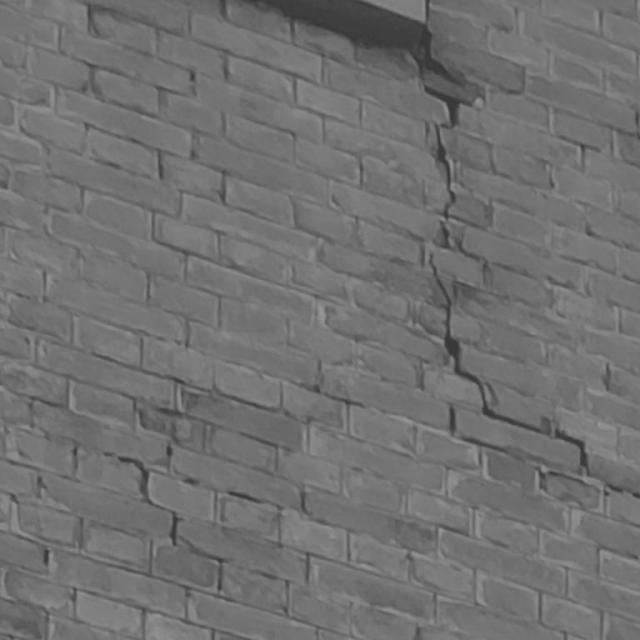crack: (418, 30, 638, 498), (104, 451, 178, 547)
